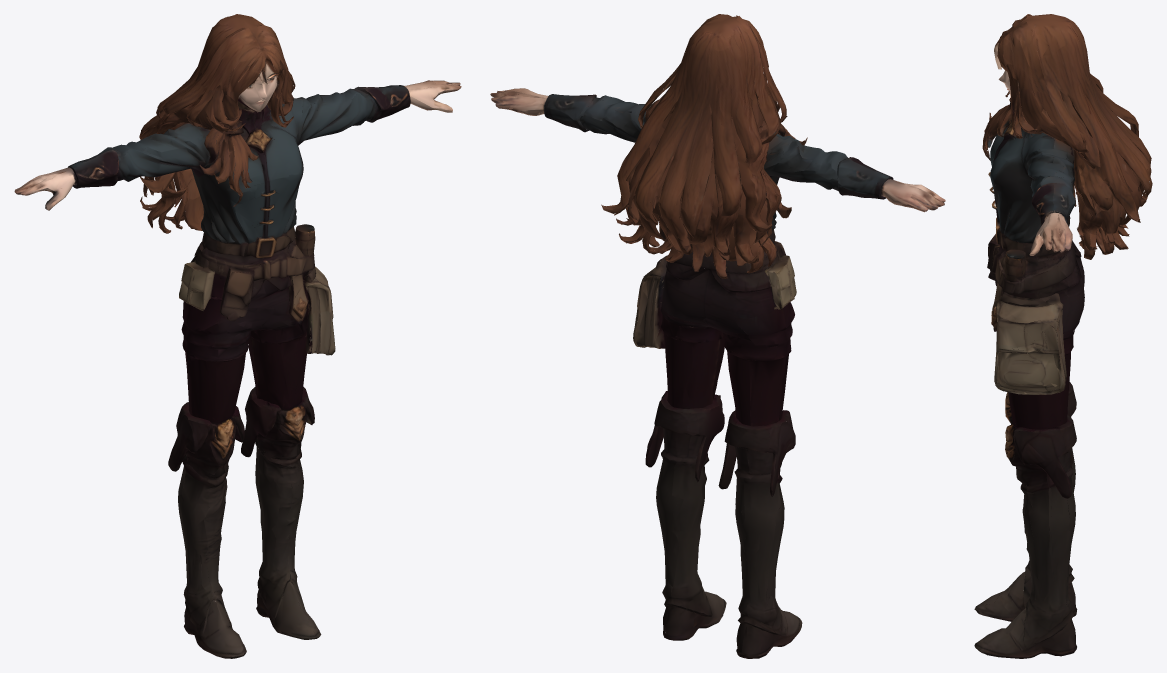
The model's file is ong-studio.glb.
3 views of the same model, side by side, from view 1: azimuth 30°, elevation 25°; view 2: azimuth 150°, elevation 25°; view 3: azimuth 270°, elevation 25° (orthographic).
Parts seen in each view (by area): view 1: part_9, part_10, part_11, part_8, part_7, part_1, part_3, part_6, part_0, part_2, part_4, part_5; view 2: part_10, part_9, part_11, part_8, part_1, part_6, part_2, part_4, part_0; view 3: part_10, part_9, part_8, part_1, part_11, part_4, part_7.
Boxes of the visible parts, box(x1,y1,x2,y2) form: part_9: box(113, 85, 410, 424); part_10: box(139, 14, 295, 233); part_11: box(168, 402, 246, 658); part_8: box(241, 387, 321, 639); part_7: box(199, 119, 272, 206); part_1: box(293, 266, 335, 355); part_3: box(216, 258, 261, 321); part_6: box(68, 147, 122, 188); part_0: box(179, 259, 222, 310); part_2: box(14, 167, 76, 210); part_4: box(404, 80, 461, 112); part_5: box(237, 62, 277, 112); part_10: box(601, 14, 791, 278); part_9: box(544, 94, 847, 426); part_11: box(718, 410, 802, 658); part_8: box(645, 391, 726, 640); part_1: box(633, 255, 693, 348); part_6: box(837, 157, 893, 199); part_2: box(881, 179, 945, 212); part_4: box(490, 88, 548, 115); part_0: box(767, 252, 796, 309); part_10: box(994, 14, 1152, 259); part_9: box(988, 126, 1084, 429); part_8: box(974, 415, 1076, 658); part_1: box(994, 292, 1066, 394); part_11: box(974, 381, 1077, 621); part_4: box(1029, 211, 1072, 255); part_7: box(982, 99, 1015, 160).
Bounding box in the file's own units: 0.89 × 1.16 × 0.3045.
1 material, 1 textured.
